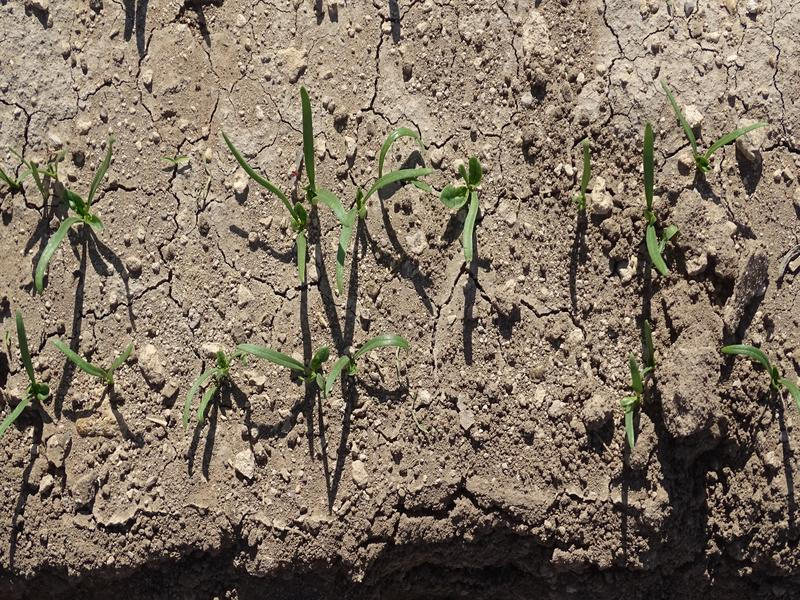Espinaca: (219, 108, 429, 282), (24, 152, 122, 278), (241, 332, 424, 391), (666, 78, 761, 166), (636, 127, 678, 288), (1, 316, 52, 428), (439, 158, 488, 265), (721, 342, 798, 405), (185, 348, 230, 428), (63, 339, 144, 380), (616, 359, 648, 442)
